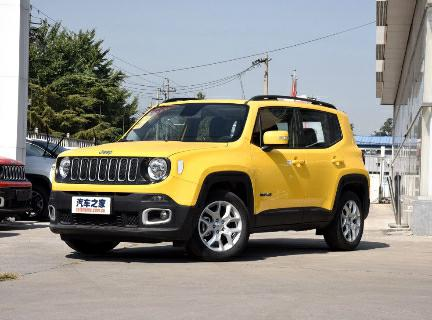Jeep-自由侠: (41, 95, 369, 258)
